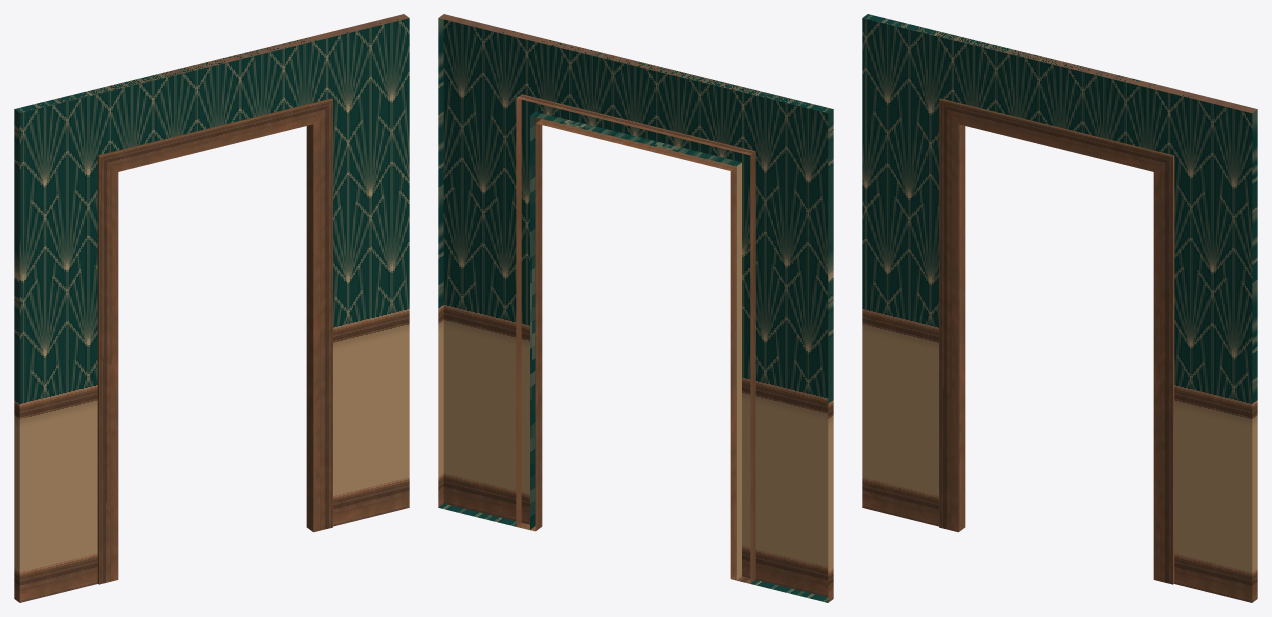
File: doorway2.glb
The picture shows the model from 3 angles, left to right: view 1: azimuth 30°, elevation 25°; view 2: azimuth 150°, elevation 25°; view 3: azimuth 330°, elevation 25°; orthographic projection.
Visible parts, largest first — view 1: doorway2; view 2: doorway2; view 3: doorway2.
Boxes of the visible parts, left/top/right/bottom form: doorway2: left=14, top=14, right=409, bottom=602; doorway2: left=438, top=14, right=833, bottom=602; doorway2: left=862, top=14, right=1257, bottom=602.
Bounding box in the file's own units: 2 × 2.4 × 0.06.
1 material, 1 textured.
